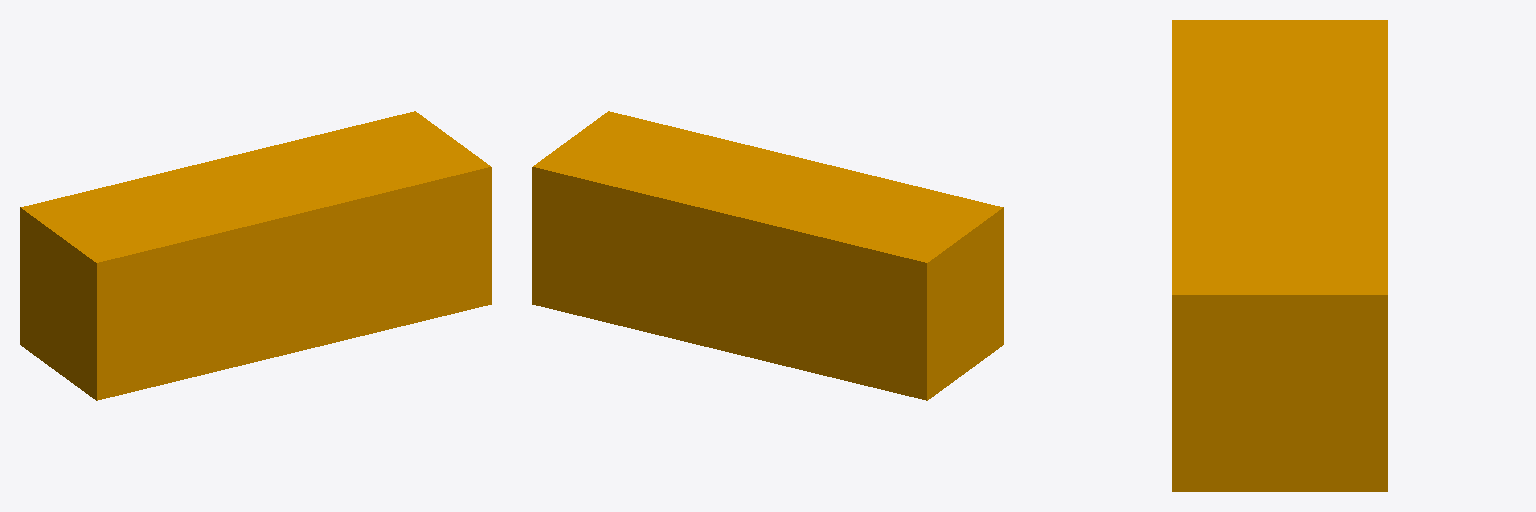
robot.urdf — block:
<robot name="block">
    <link name="box">
        <inertial>
            <origin xyz="0 0 0" />
            <mass value="0.02" />
            <inertia  ixx="0.01" ixy="0.01"  ixz="0.01"  iyy="0.01"  iyz="0.01"  izz="0.01" />
        </inertial>
        <visual>
            <origin xyz="0 0 0"/>
            <geometry>
            <box size="0.105 0.035 0.035" />
            </geometry>
        </visual>
        <collision>
            <origin xyz="0 0 0"/>
            <geometry>
            <box size="0.105 0.035 0.035" />
            </geometry>
        </collision>
    </link>
    <gazebo reference="box">
        <material>Gazebo/Blue</material>
    </gazebo>
</robot>

--- Render facts (derived) ---
The picture shows the robot from 3 angles, left to right: view 1: azimuth 30°, elevation 25°; view 2: azimuth 150°, elevation 25°; view 3: azimuth 270°, elevation 25°; orthographic projection.
Robot: block — 1 links, 0 joints (none); root link box; default pose: all joints at 0.
Visible links, largest first — view 1: box; view 2: box; view 3: box.
Boxes of the visible links, x1,y1,x2,y2 form: box: [20, 111, 491, 400]; box: [532, 111, 1003, 400]; box: [1172, 20, 1387, 491].
Bounding box of the posed robot: 0.105 × 0.035 × 0.035 m (x, y, z).
Geometry: primitives only (box / cylinder / sphere), no mesh files.